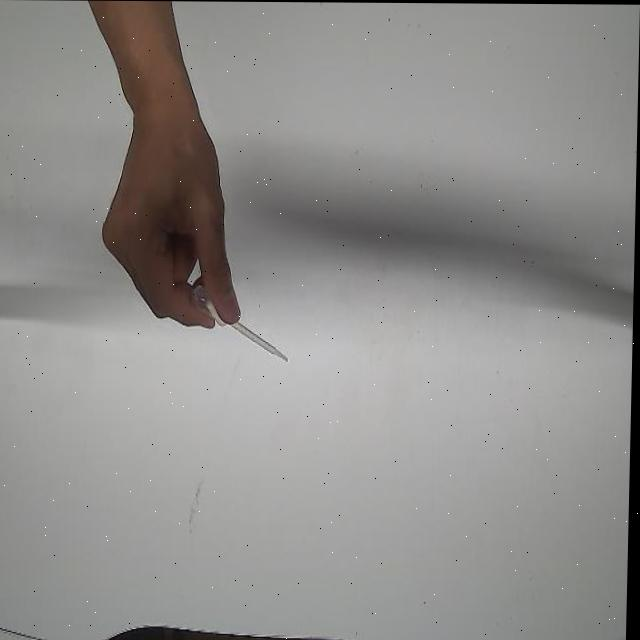Disposable Pasteur Pipette: (190, 280, 296, 368)
